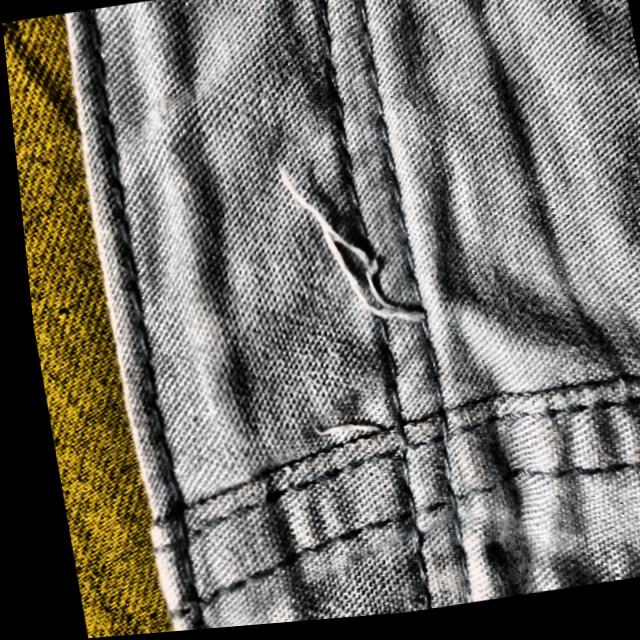Stitch: (267, 115, 440, 382), (288, 397, 386, 459)
